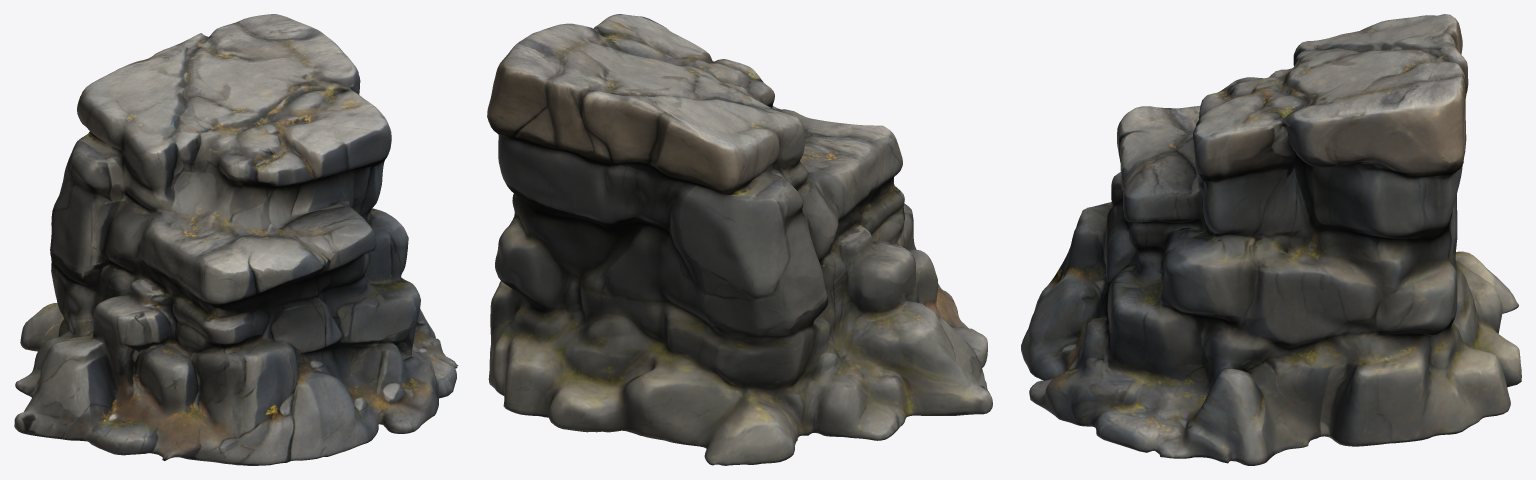
Rendered from rock.glb.
3 renders of one model, left to right at view 1: azimuth 30°, elevation 25°; view 2: azimuth 150°, elevation 25°; view 3: azimuth 270°, elevation 25°, orthographic. The views are drawn at different scales.
Bounding box in the file's own units: 1.99 × 1.29 × 1.77.
Materials: 1 (1 with a texture image).
